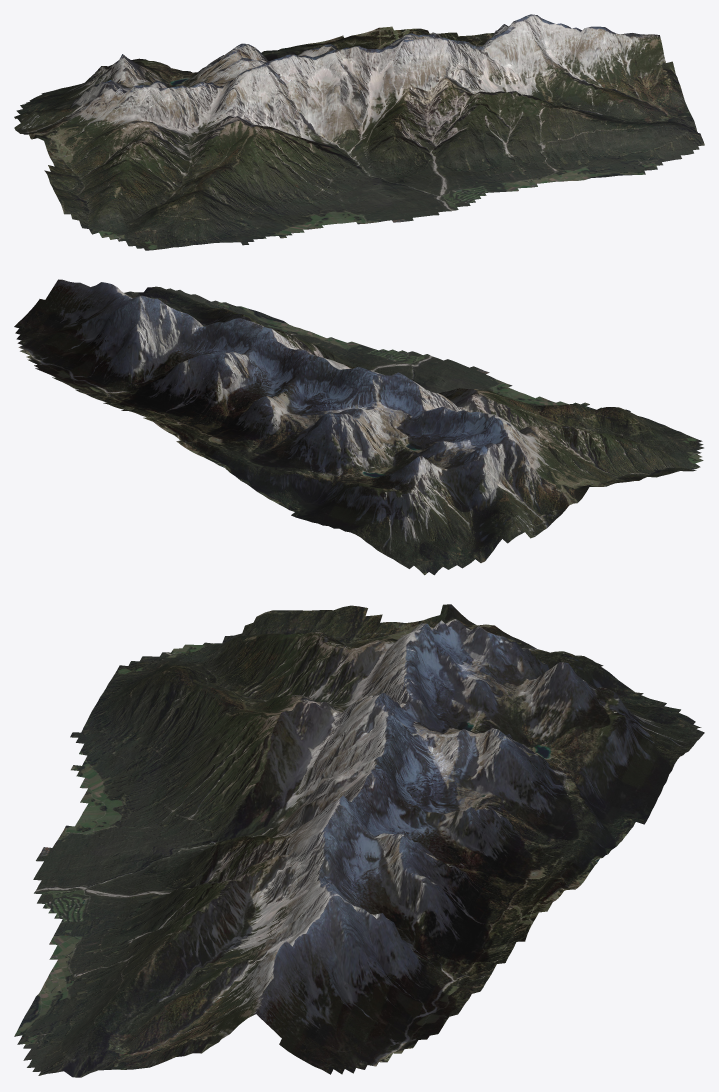
Rendered from mountain_range.obj.
The picture shows the model from 3 angles, top to bottom: view 1: azimuth 30°, elevation 25°; view 2: azimuth 150°, elevation 25°; view 3: azimuth 270°, elevation 25°; orthographic projection. The views are drawn at different scales.
Parts seen in each view (by area): view 1: mountain_range.003; view 2: mountain_range.003; view 3: mountain_range.003.
Part boxes in pixels (x1,y1,x2,y2): mountain_range.003: (14,14,704,250); mountain_range.003: (14,279,703,575); mountain_range.003: (14,604,704,1077).
Bounding box in the file's own units: 287 × 40.27 × 181.
Materials: 1 (1 with a texture image).
